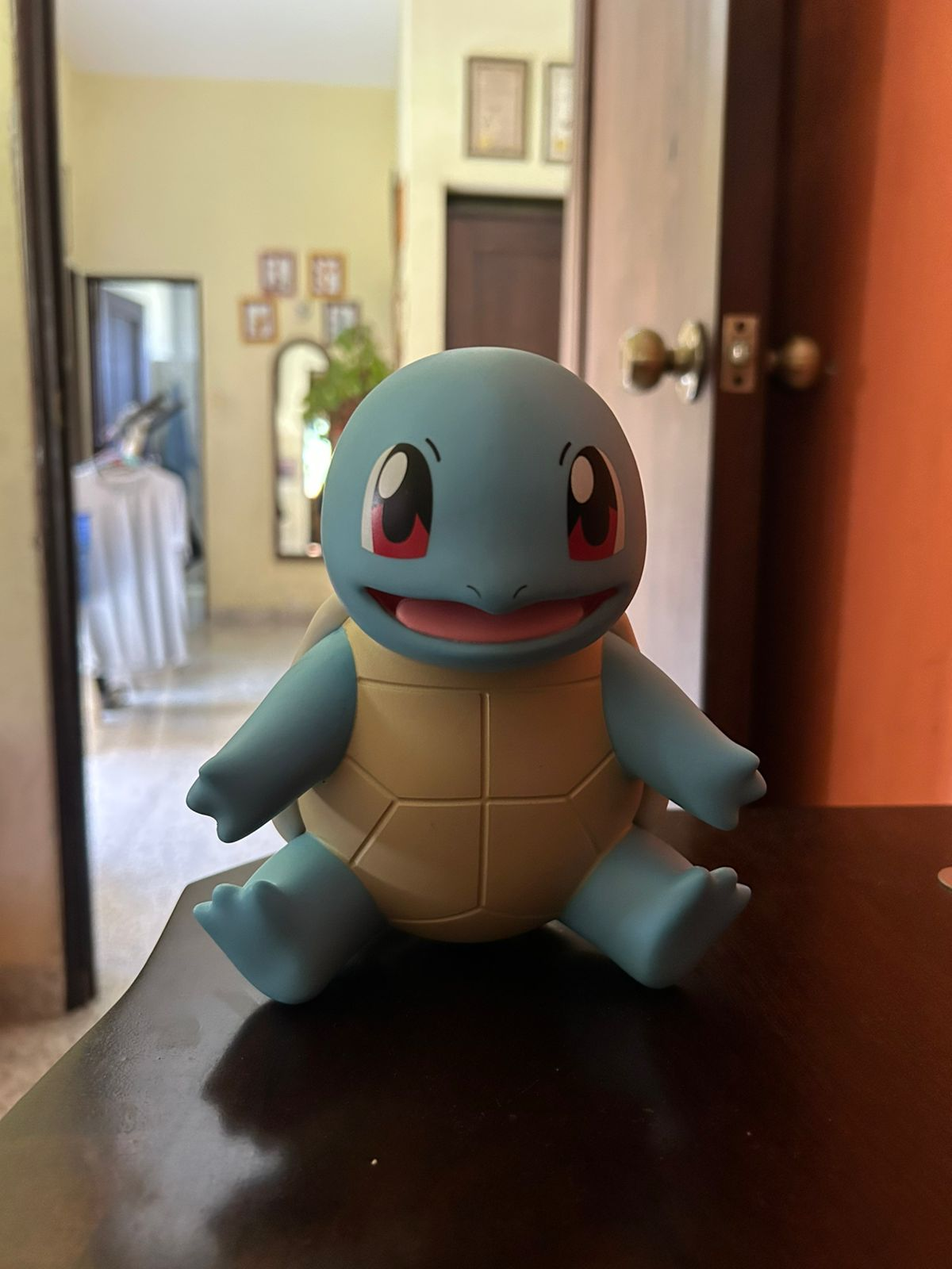Squirtle: (189, 350, 762, 1001)
